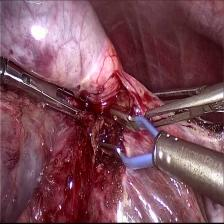Bipolar: (92, 102, 189, 200)
Grasper: (1, 61, 95, 130), (141, 79, 221, 128)
